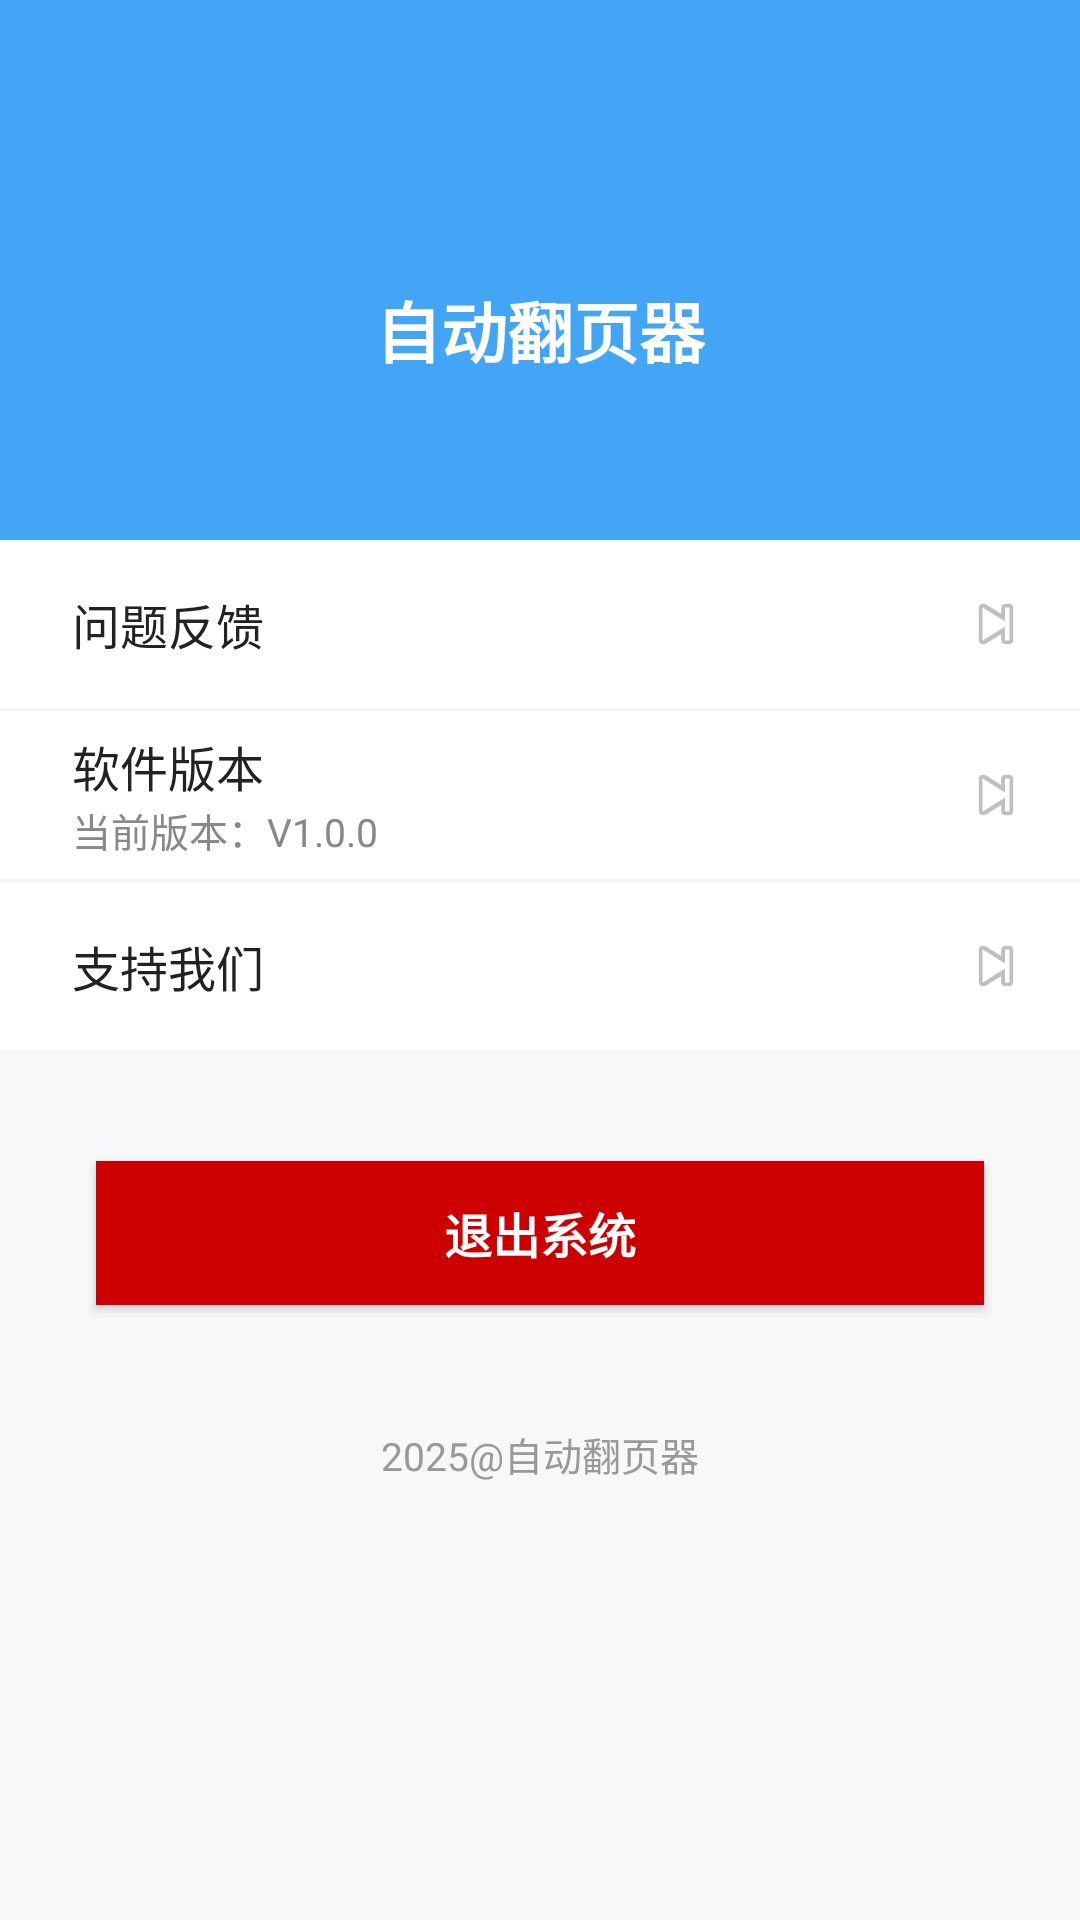

Icons on this 1080px x 1920px Android screen, each with its box as [x1=x1, y1=y1, x2=x2, y2=y2]:
next: [x1=979, y1=604, x2=1013, y2=644], [x1=979, y1=775, x2=1013, y2=815], [x1=979, y1=946, x2=1013, y2=986]
